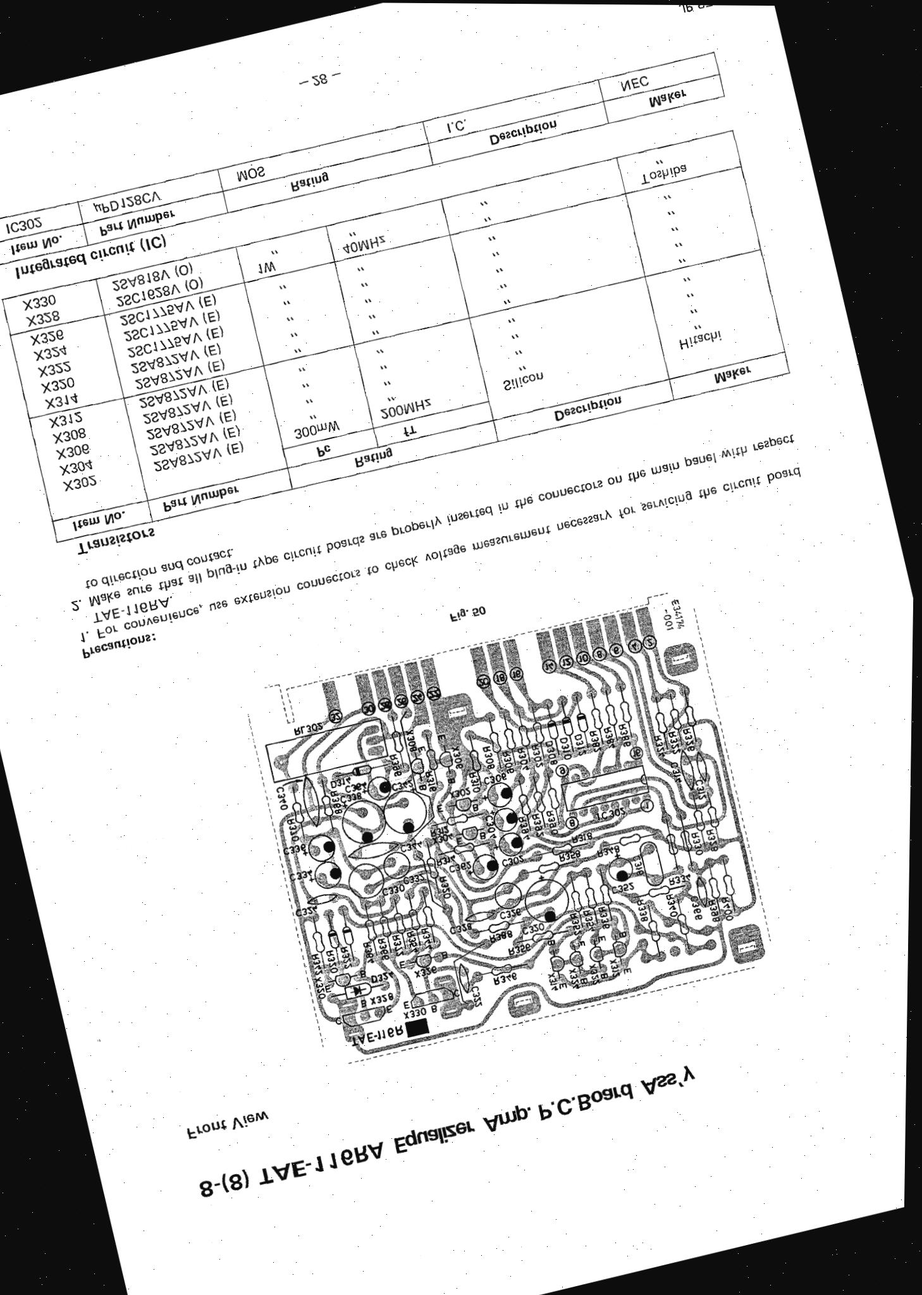compo_name: (345, 1014, 412, 1053), (355, 986, 402, 1012), (398, 1000, 441, 1026), (699, 820, 726, 859), (481, 807, 508, 845), (592, 803, 631, 829), (497, 741, 522, 779), (542, 798, 565, 839), (561, 903, 586, 940), (269, 781, 294, 817), (538, 736, 563, 772), (446, 916, 483, 940), (479, 737, 503, 773), (512, 811, 536, 846), (685, 827, 709, 862), (584, 956, 606, 994), (497, 850, 533, 873), (505, 938, 538, 963), (279, 839, 313, 863), (528, 808, 552, 842), (661, 886, 684, 921), (484, 924, 519, 947), (555, 731, 578, 766), (553, 844, 586, 868), (580, 901, 602, 937), (605, 946, 628, 980), (291, 897, 325, 920), (594, 898, 617, 932), (487, 969, 522, 991), (465, 980, 489, 1012), (432, 872, 456, 904), (591, 840, 624, 863), (686, 888, 707, 924), (281, 816, 304, 848), (678, 722, 701, 754), (409, 961, 442, 983), (445, 855, 478, 877), (400, 726, 422, 759), (465, 766, 489, 796), (527, 736, 547, 772), (366, 968, 400, 989), (706, 895, 727, 929), (377, 879, 409, 901), (628, 848, 650, 880), (665, 868, 697, 890), (518, 918, 551, 939), (335, 942, 358, 972), (663, 725, 685, 756), (327, 787, 347, 821), (542, 966, 563, 998), (285, 865, 317, 886), (446, 741, 467, 773), (584, 725, 605, 757), (600, 722, 621, 754), (357, 939, 380, 968), (310, 975, 332, 1005), (516, 742, 536, 775), (691, 774, 713, 804), (633, 894, 654, 925), (326, 771, 360, 790), (396, 836, 428, 856), (417, 924, 439, 953), (339, 788, 368, 810), (493, 904, 528, 922), (308, 945, 327, 978), (720, 893, 739, 926), (571, 731, 590, 763), (388, 750, 408, 780), (650, 730, 670, 760), (609, 878, 639, 898), (616, 717, 635, 748), (403, 929, 424, 957), (387, 931, 408, 959), (564, 964, 584, 993), (373, 937, 393, 965), (422, 767, 442, 795), (567, 829, 598, 847), (668, 759, 686, 790), (322, 948, 341, 977), (342, 778, 370, 796), (430, 831, 458, 849), (402, 868, 427, 888), (389, 777, 415, 796), (426, 824, 452, 839)
